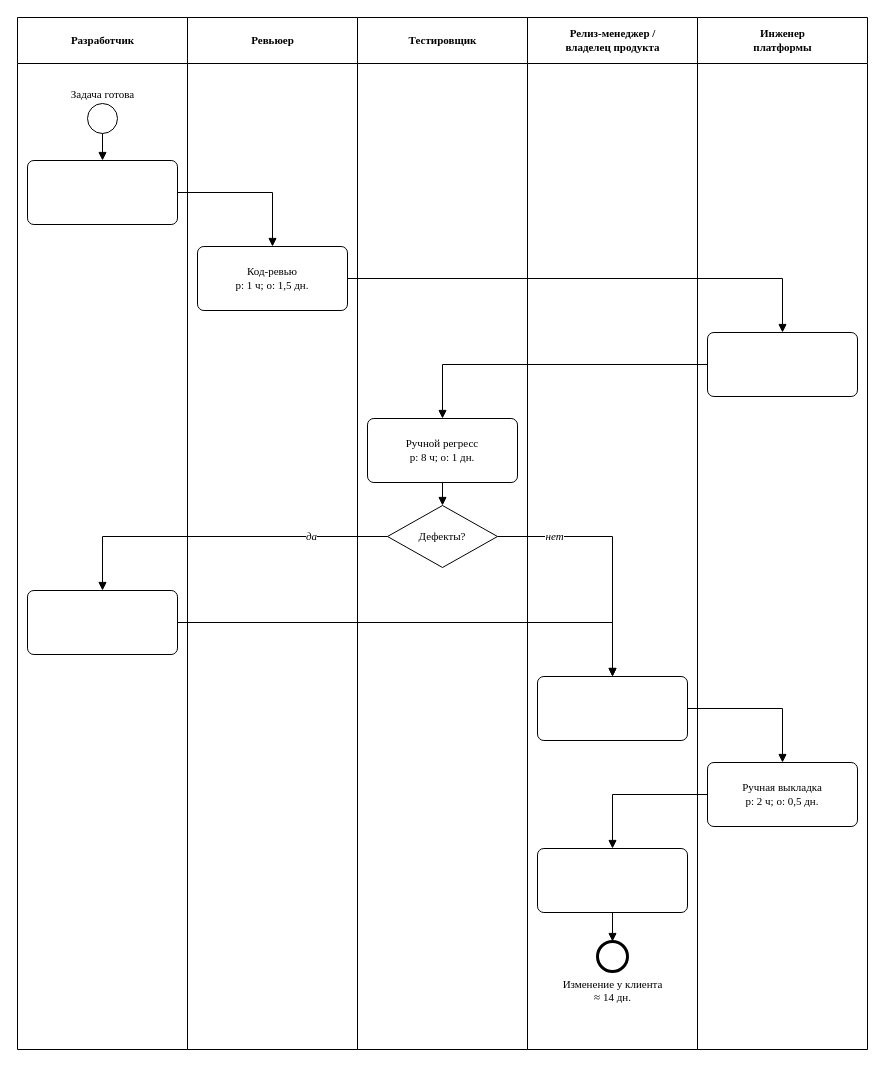
Image size: 885x1067. Some labels were removed from this diagram. The centre of each missing label's shape, as x and y in pixels:
"Выделить тестовый стенд р: 0,5 ч; о: 2 дн." goes at [782,364].
"Исправить дефекты р: 4 ч; о: 1 дн." goes at [102,622].
"Проверить у клиента р: 0,5 ч" goes at [612,880].
"Разработать изменение р: 16 ч; о: 1 дн." goes at [102,192].
"Согласовать выкладку, ждать окна релиза (раз в неделю) р: 1 ч; о: 3 дн." goes at [612,708].
